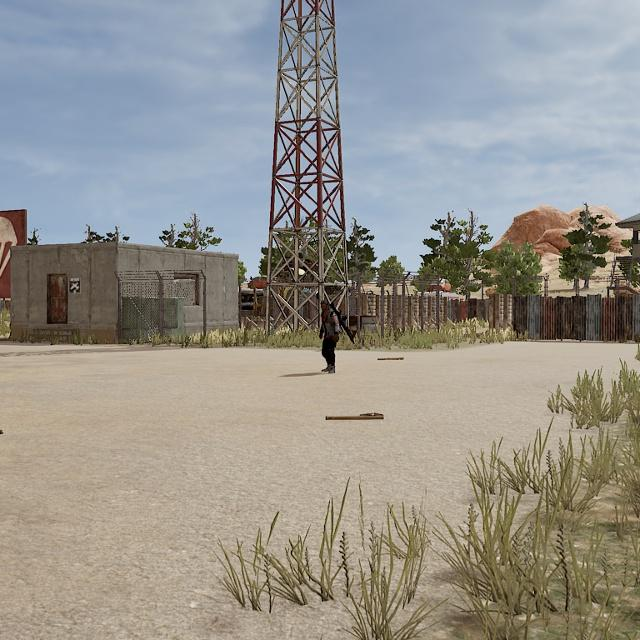head: (319, 298, 331, 311)
people: (318, 298, 344, 375)
